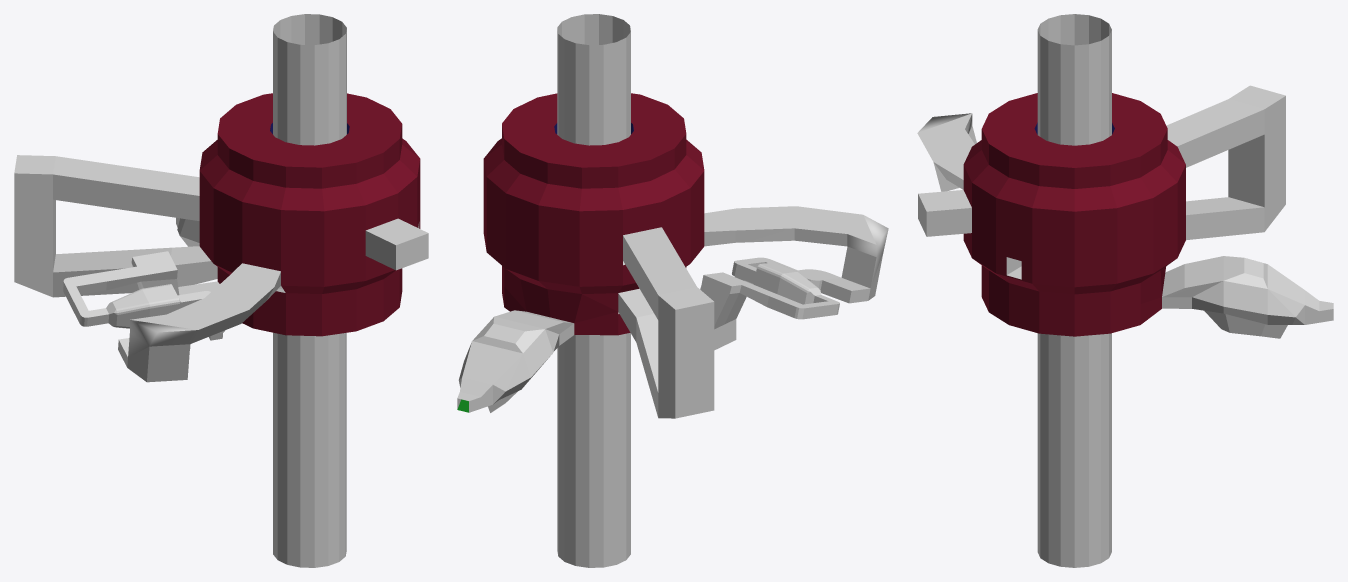
File: FloodedFacility.fbx
The picture shows the model from 3 angles, left to right: view 1: azimuth 30°, elevation 25°; view 2: azimuth 150°, elevation 25°; view 3: azimuth 270°, elevation 25°; orthographic projection.
Parts seen in each view (by area): view 1: facility.001; view 2: facility.001; view 3: facility.001.
Boxes of the visible parts, left/top/right/bottom form: facility.001: left=14, top=14, right=428, bottom=567; facility.001: left=457, top=14, right=888, bottom=567; facility.001: left=917, top=14, right=1333, bottom=567.
Bounding box in the file's own units: 20683 × 30997 × 22386.
